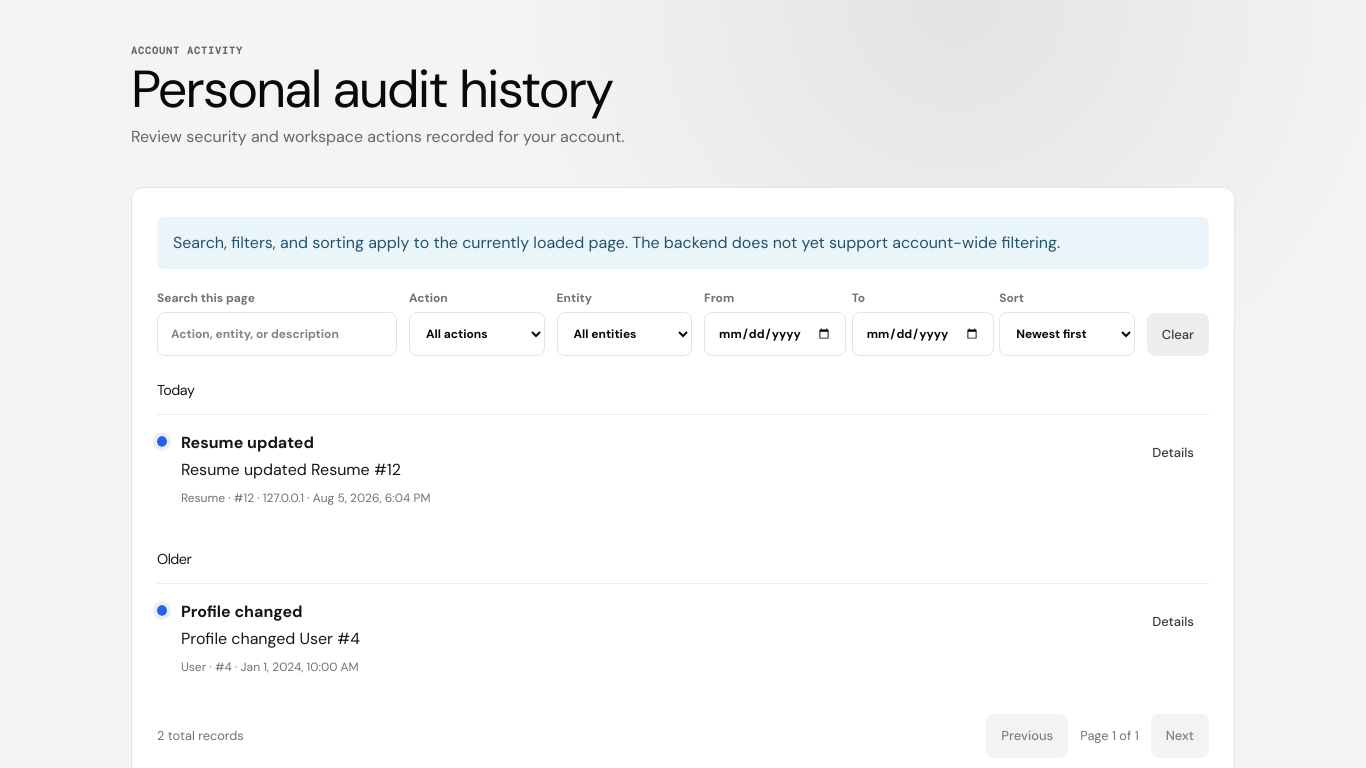
Scenario: personal audit history › groups activity and shows structured details
Expected: the heading "Today" is shown, [157,381,194,399]
Expected: the heading "Older" is shown, [157,550,191,568]
Click the button with aria-label "View details for Resume updated Resume #12".
click(1173, 453)  # box [1137,431,1209,474]
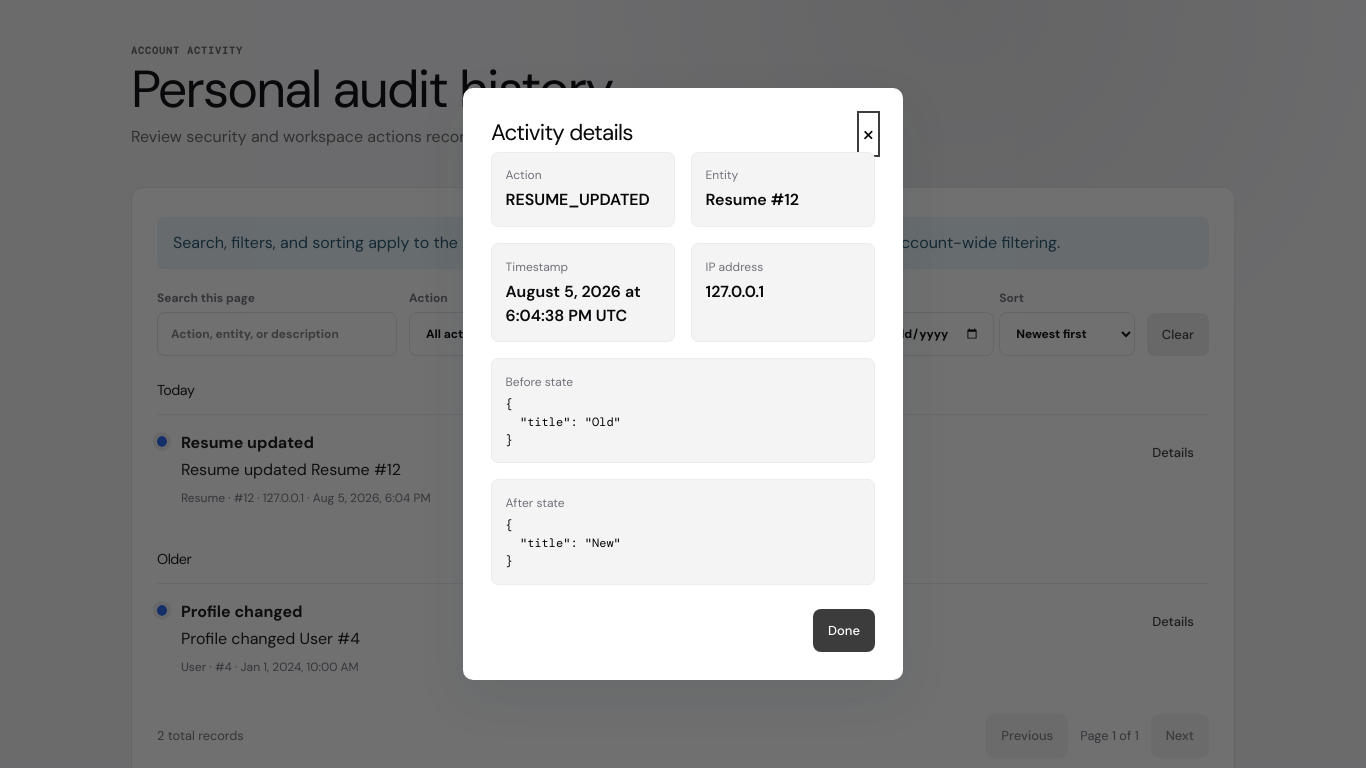
Now the dialog "Activity details" is shown, box [463,88,903,680]
Now the text "{ \"title\": \"Old\" }" is shown, box [506,396,621,448]
Now the text "127.0.0.1" is shown, box [706,281,764,302]
